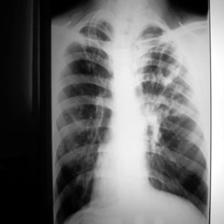tuberculosis: (54, 16, 210, 224)
